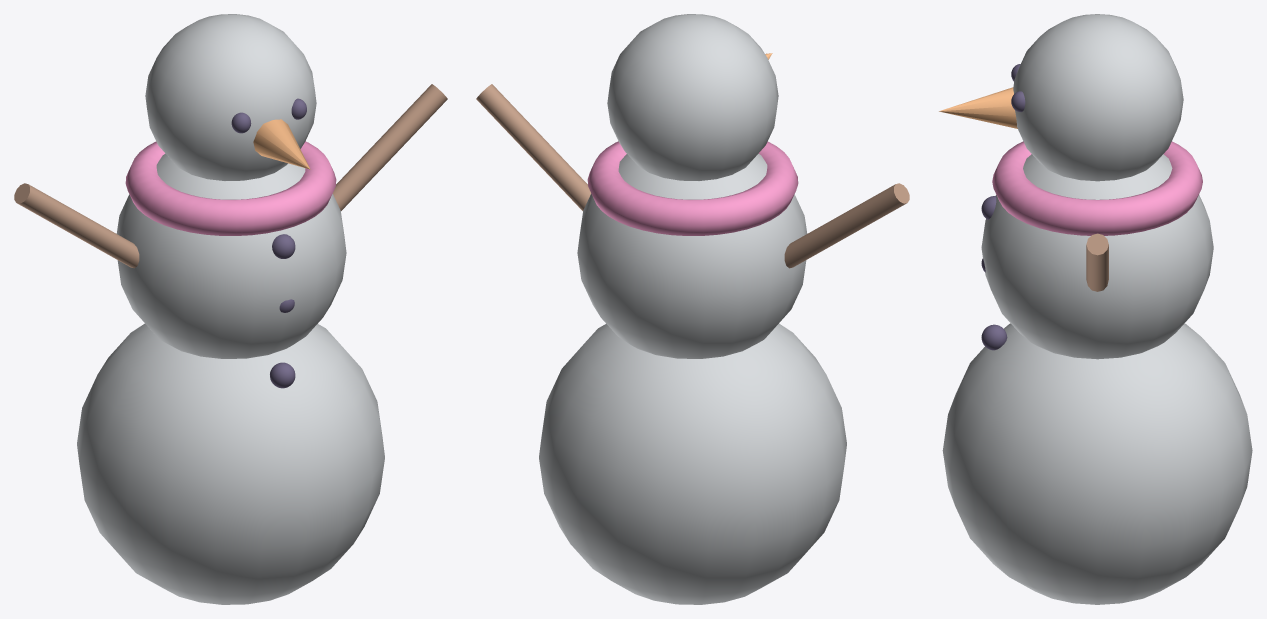
Rendered from st_snow_snowman.glb.
3 views of the same model, side by side, from view 1: azimuth 30°, elevation 25°; view 2: azimuth 150°, elevation 25°; view 3: azimuth 270°, elevation 25° (orthographic).
Parts seen in each view (by area): view 1: Snowman; view 2: Snowman; view 3: Snowman.
Part boxes in pixels (<box>): Snowman: <box>14,14,447,604</box>; Snowman: <box>476,14,909,604</box>; Snowman: <box>939,14,1252,604</box>.
Bounding box in the file's own units: 1.15 × 1.46 × 0.73.
